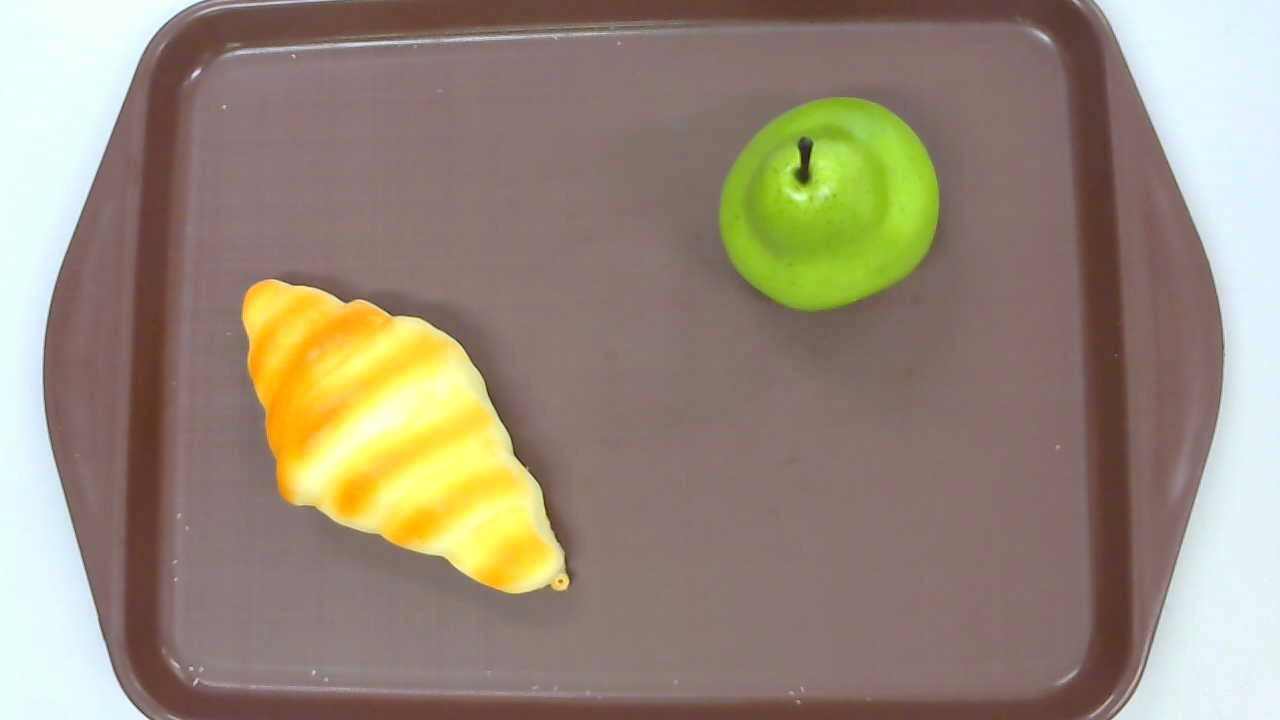croissant: (242, 278, 571, 595)
green pear: (717, 97, 938, 315)
